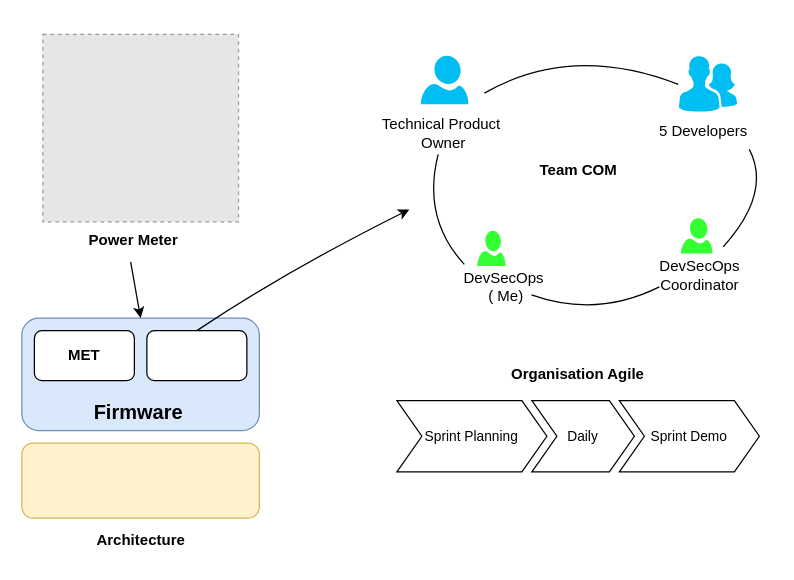
This 794x580 diagram has some shape labels left out. Grey dashed boxes stand in for pictures. Each missing label, with the centre of its shape:
COM: point (196, 355)
Hardware: point (140, 480)
